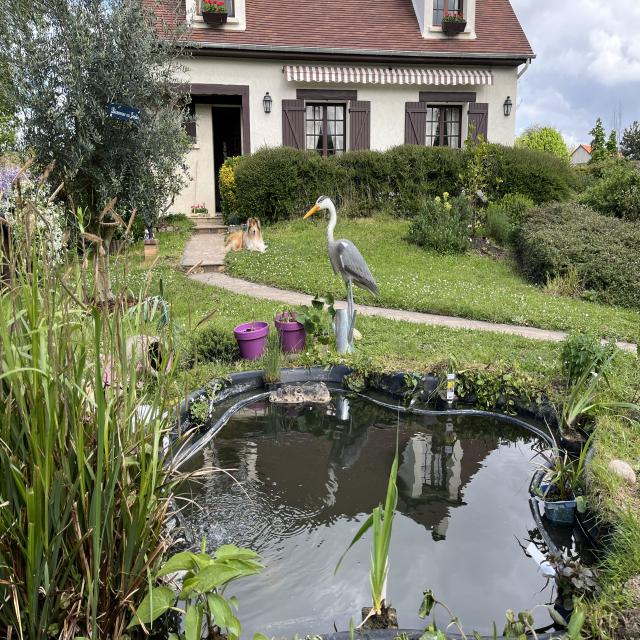Dog: (212, 208, 272, 276)
Heron: (299, 184, 381, 348)
